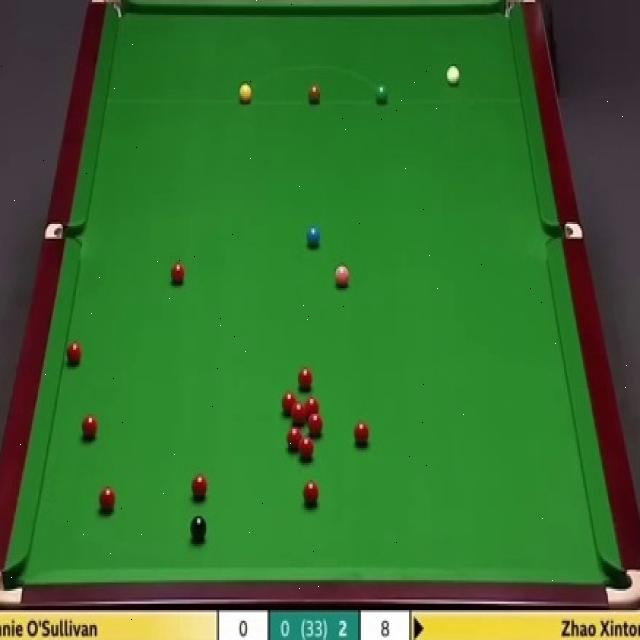black-ball: (190, 515, 209, 539)
blue-ball: (306, 224, 321, 251)
brown-ball: (307, 83, 321, 103)
green-ball: (375, 84, 389, 103)
pink-ball: (334, 266, 350, 290)
red-ball: (64, 341, 84, 368), (97, 485, 117, 512), (280, 389, 299, 416), (79, 412, 97, 439), (302, 480, 320, 507), (353, 421, 370, 447), (192, 473, 209, 499), (296, 367, 315, 390), (286, 425, 302, 451), (307, 423, 324, 447), (290, 403, 308, 425), (304, 398, 320, 422), (170, 264, 186, 284), (300, 414, 315, 432)
white-ball: (446, 65, 461, 89)
yellow-ball: (238, 83, 252, 103)
